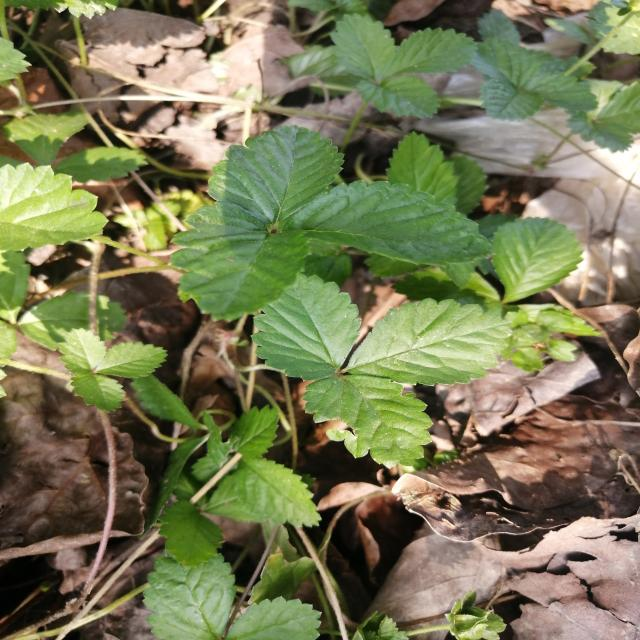Mock_strawberry: (147, 122, 499, 309)
